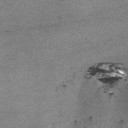iron sheet ash: (88, 62, 128, 85)
